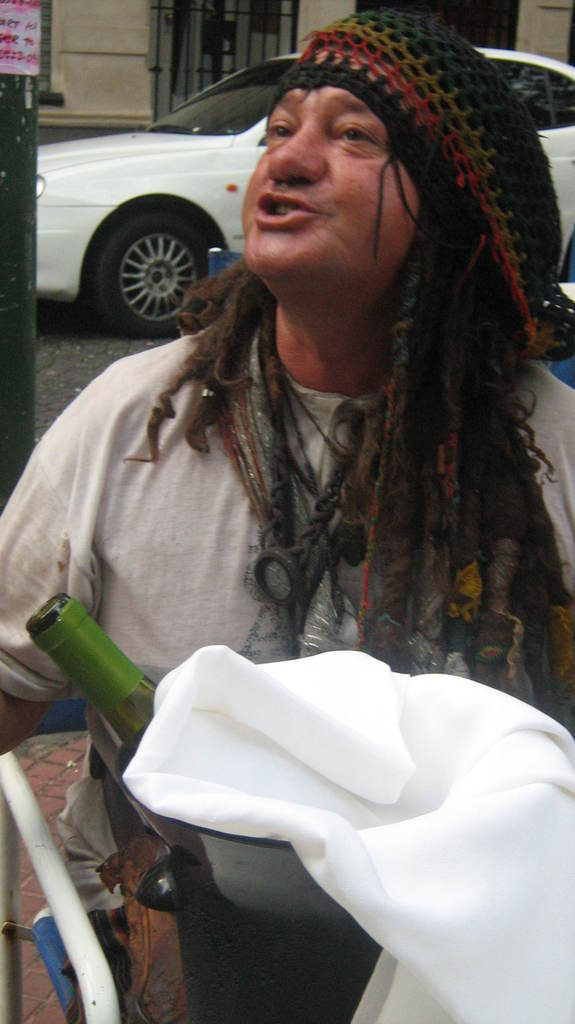Car: (34, 47, 574, 336)
